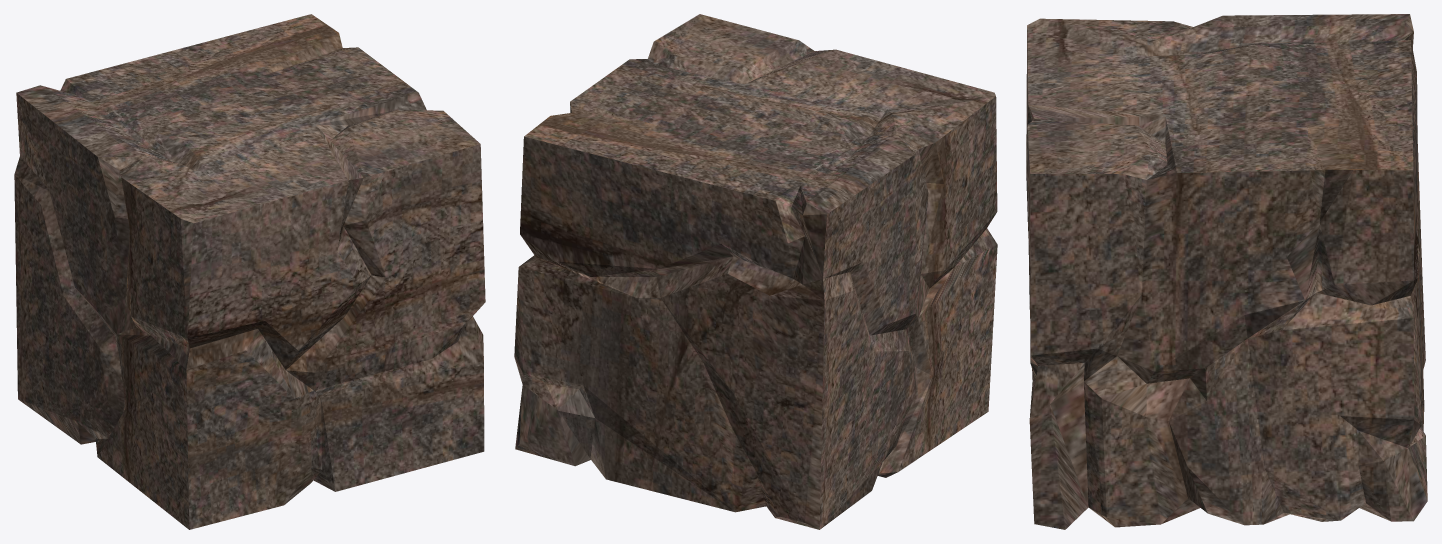
Rendered from stone_block.glb.
3 renders of one model, left to right at view 1: azimuth 30°, elevation 25°; view 2: azimuth 150°, elevation 25°; view 3: azimuth 270°, elevation 25°, orthographic. The views are drawn at different scales.
Visible parts, largest first — view 1: Cube.006; view 2: Cube.006; view 3: Cube.006.
Boxes of the visible parts, x1,y1,x2,y2 form: Cube.006: [14, 14, 485, 529]; Cube.006: [514, 14, 997, 529]; Cube.006: [1026, 14, 1427, 529].
Size of the model in its own units: 0.8884 by 0.8867 by 0.8913.
Materials: 1 (1 with a texture image).
